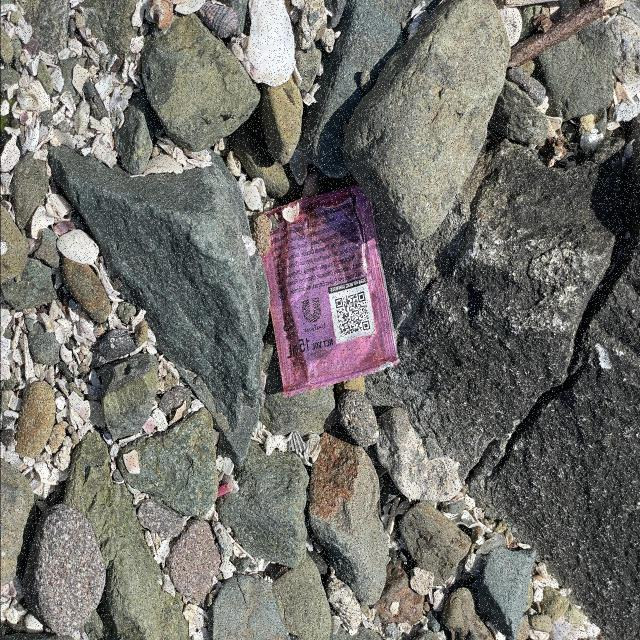plastic_waste: (249, 176, 404, 403)
